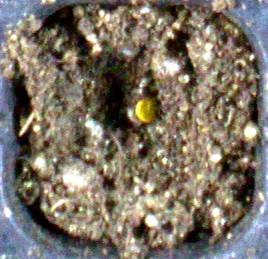pepper seed: (55, 35, 215, 159)
